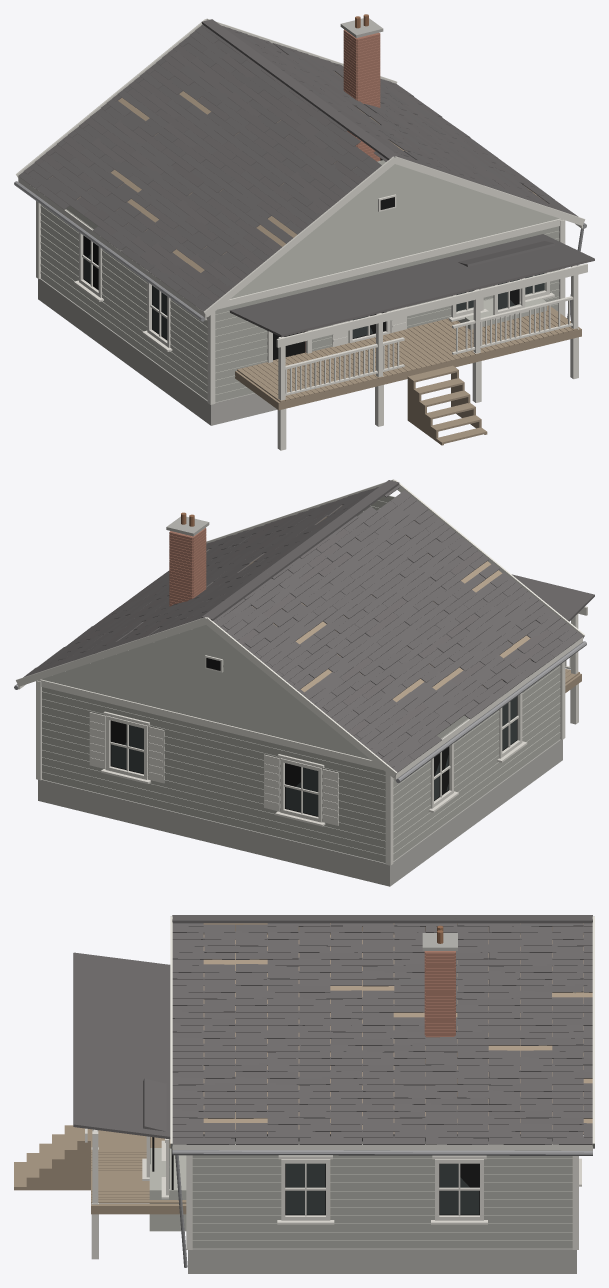
File: house_b.glb
The picture shows the model from 3 angles, top to bottom: view 1: azimuth 30°, elevation 25°; view 2: azimuth 150°, elevation 25°; view 3: azimuth 270°, elevation 25°; orthographic projection. The views are drawn at different scales.
Visible parts, largest first — view 1: House; view 2: House; view 3: House.
Part boxes in pixels (x1=…): House: x1=14, y1=14, x2=594, y2=450; House: x1=14, y1=479, x2=594, y2=886; House: x1=14, y1=915, x2=594, y2=1273.
Size of the model in its own units: 11.08 by 7.23 by 12.84.
